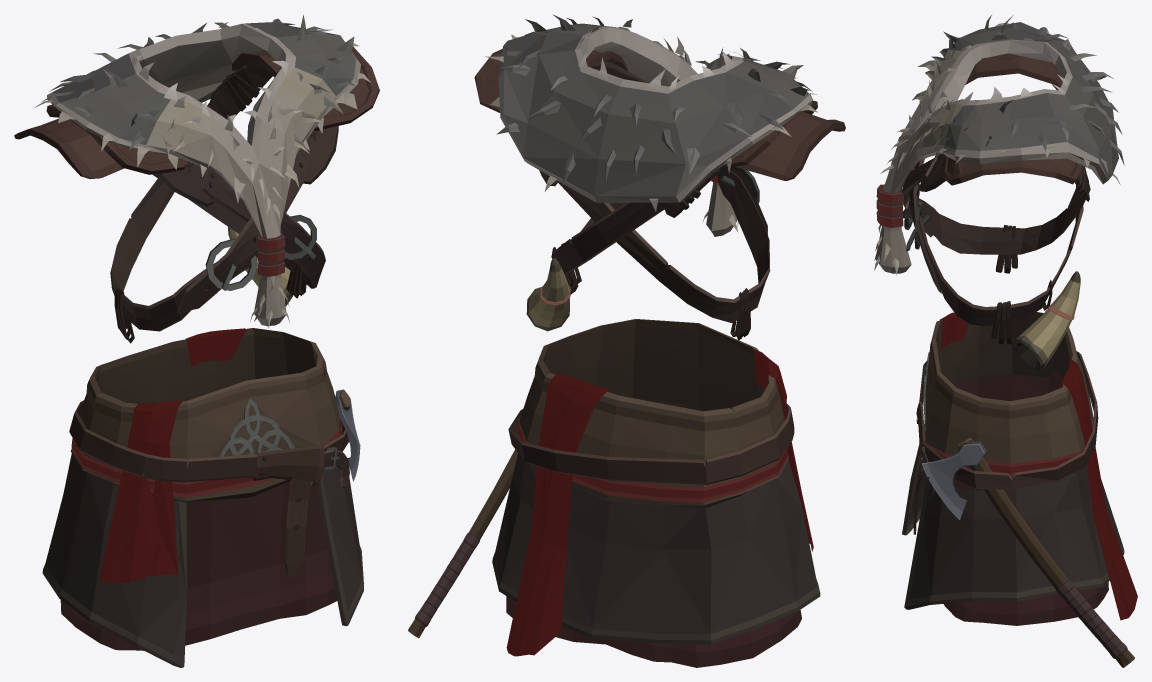
The model's file is vikingArmorWolfFurFemale.glb.
3 renders of one model, left to right at view 1: azimuth 30°, elevation 25°; view 2: azimuth 150°, elevation 25°; view 3: azimuth 270°, elevation 25°, orthographic. The views are drawn at different scales.
Visible parts, largest first — view 1: vikingArmorWolfFur, wolfHelmet.001, bluntLightVikingAxe.001; view 2: vikingArmorWolfFur, wolfHelmet.001, bluntLightVikingAxe.001; view 3: vikingArmorWolfFur, wolfHelmet.001, bluntLightVikingAxe.001.
Boxes of the visible parts, x1=… form: vikingArmorWolfFur: x1=14, y1=46, x2=379, y2=667; wolfHelmet.001: x1=34, y1=14, x2=370, y2=328; bluntLightVikingAxe.001: x1=335, y1=389, x2=360, y2=481; vikingArmorWolfFur: x1=474, y1=49, x2=845, y2=667; wolfHelmet.001: x1=485, y1=14, x2=817, y2=236; bluntLightVikingAxe.001: x1=408, y1=449, x2=517, y2=637; vikingArmorWolfFur: x1=901, y1=53, x2=1137, y2=625; wolfHelmet.001: x1=874, y1=15, x2=1124, y2=275; bluntLightVikingAxe.001: x1=921, y1=438, x2=1134, y2=667.
Size of the model in its own units: 0.6426 by 1.05 by 0.4685.
